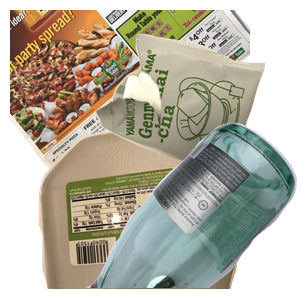glass: (86, 120, 300, 300)
paper: (10, 10, 250, 190)
plastic: (36, 120, 265, 300)
trash: (93, 31, 300, 205)
